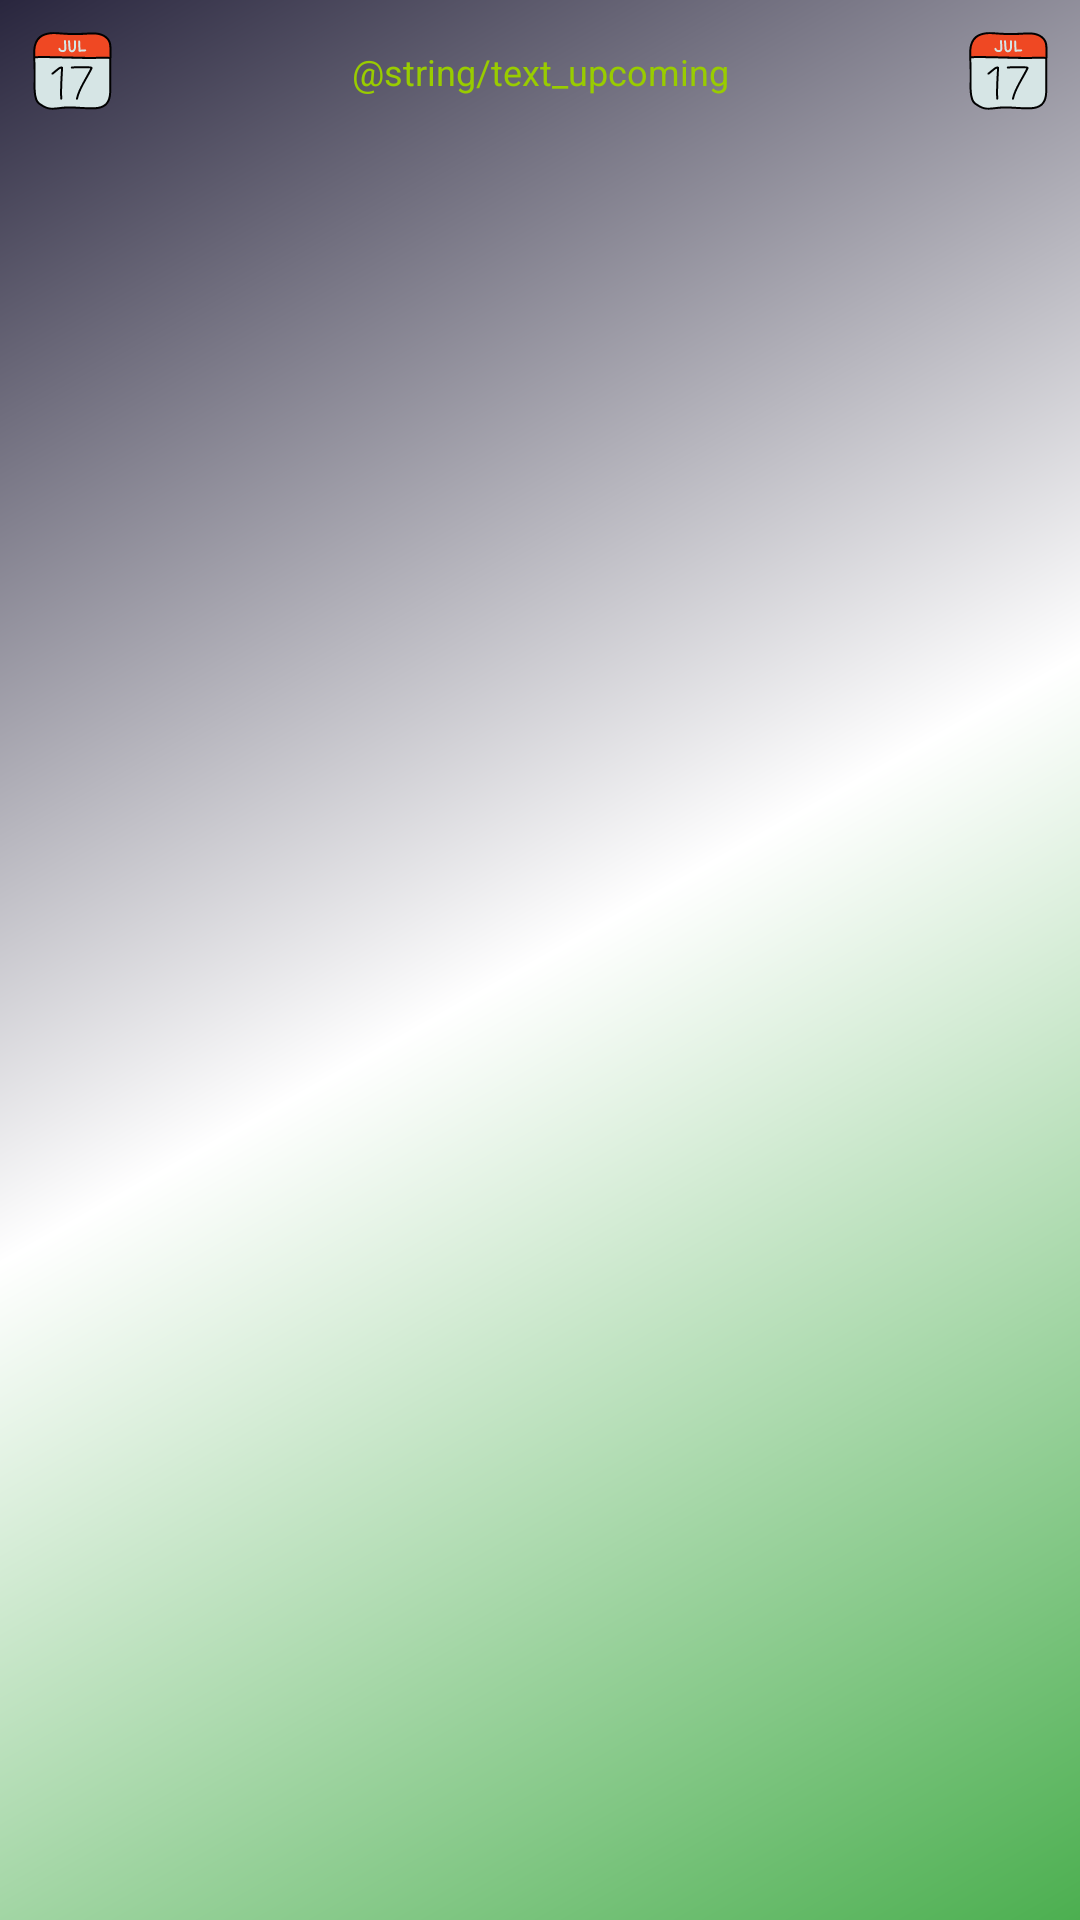

Screen size 1080px×1920px. Icon name, then its box in pixels as (x1, y1, x2, y2):
calender: (33, 32, 112, 110), (969, 32, 1048, 110)
